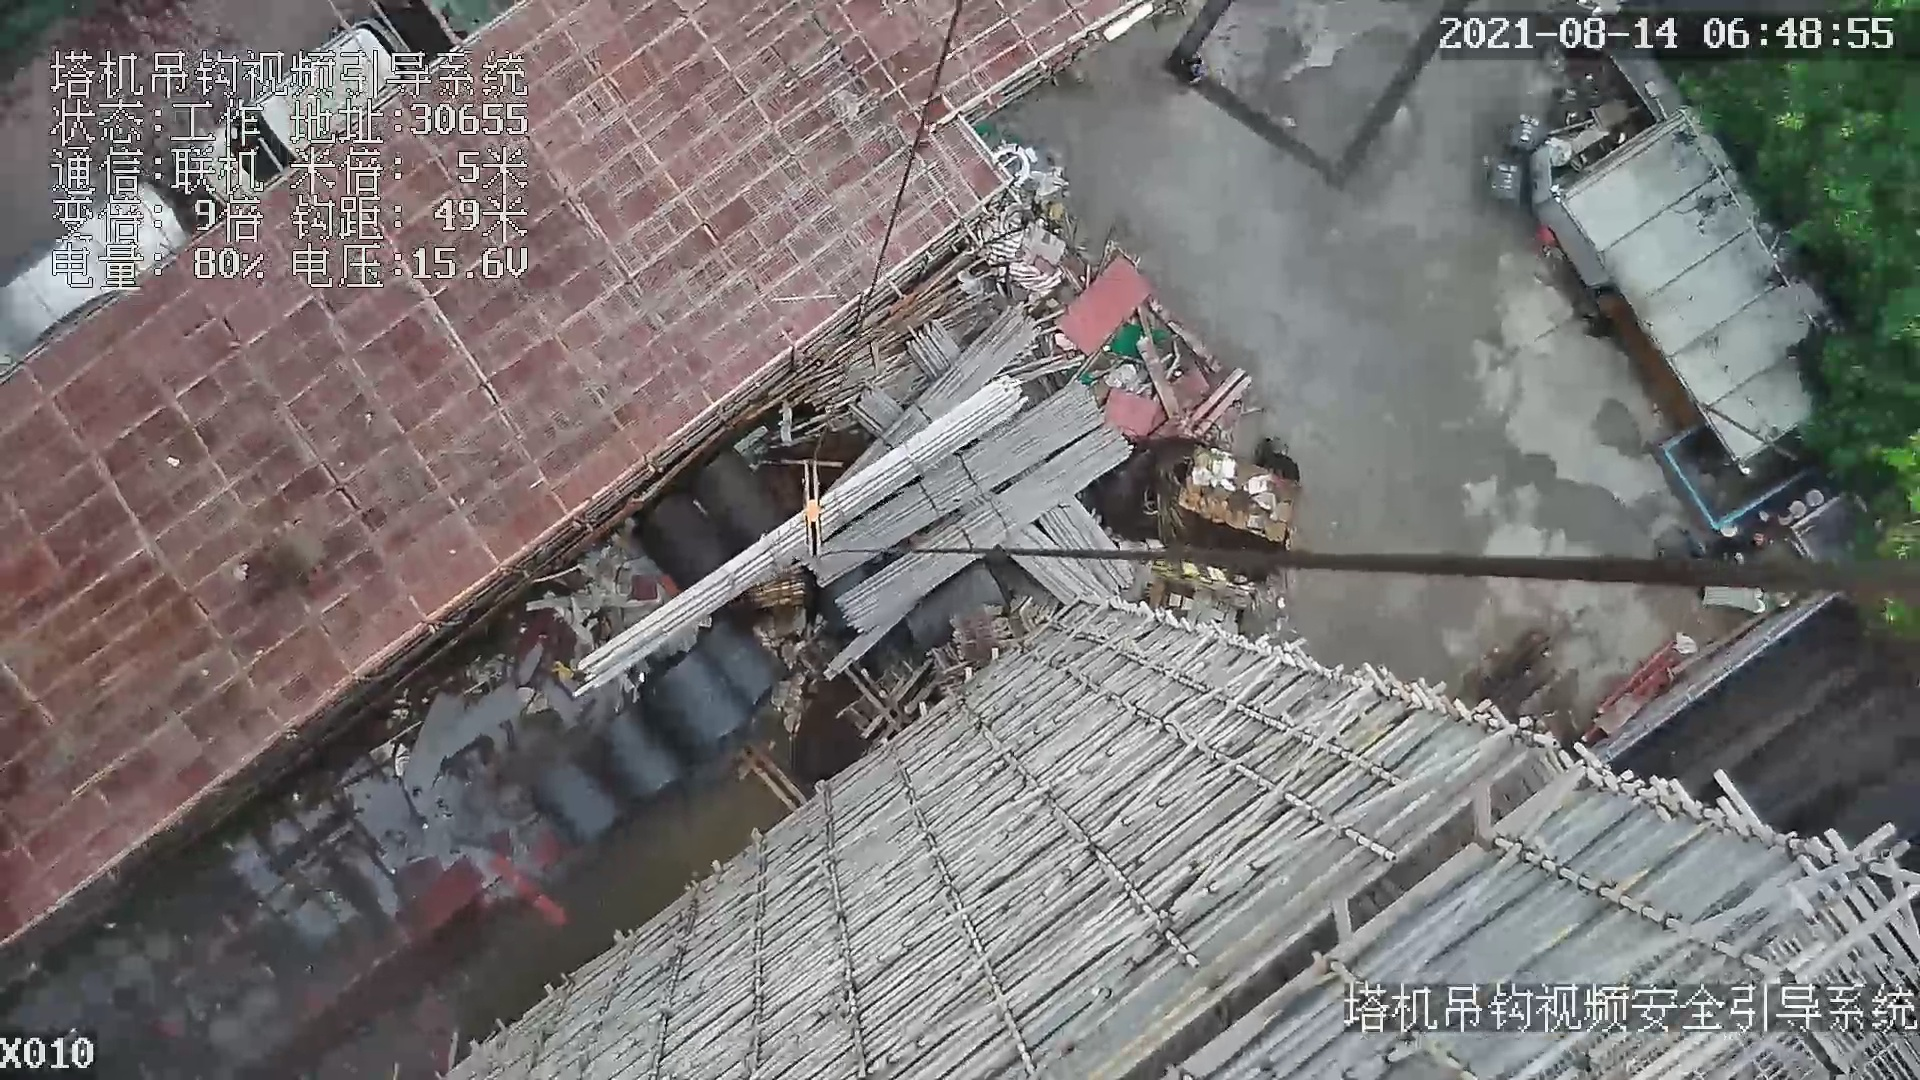hook: (797, 459, 826, 562)
hopper: (1652, 423, 1832, 537)
person: (1180, 52, 1210, 91)
